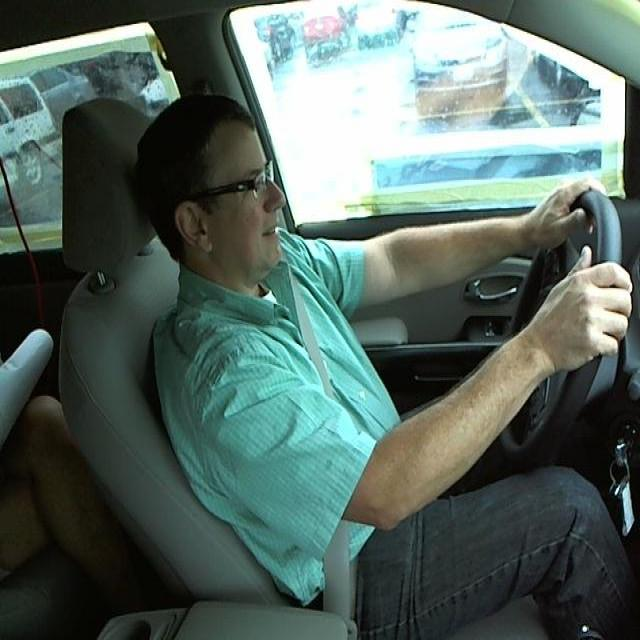without_using_phone: (127, 74, 302, 334)
